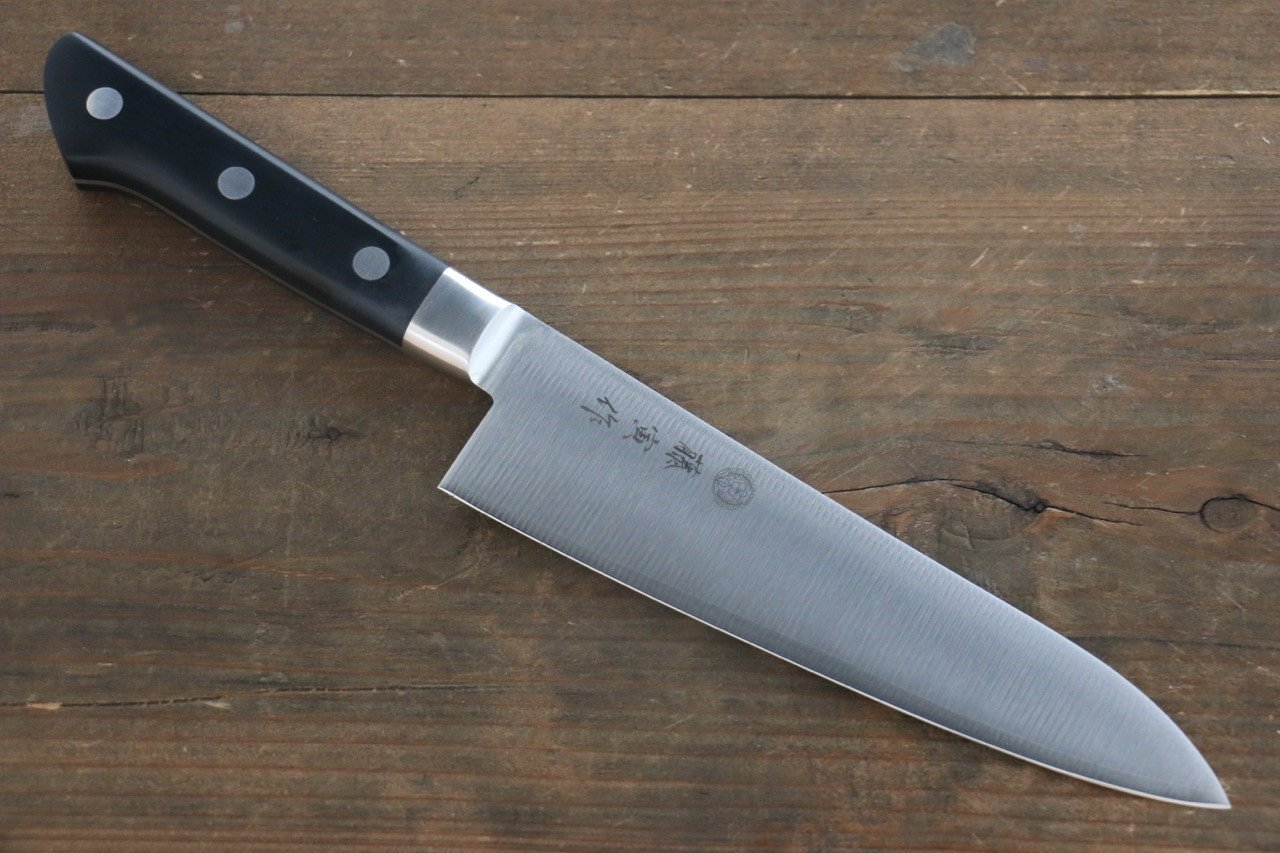knife: (37, 27, 1235, 814)
